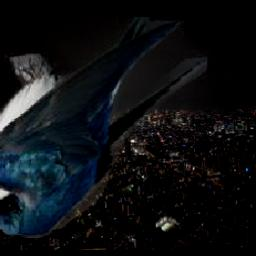Swallow: (0, 18, 208, 239)
